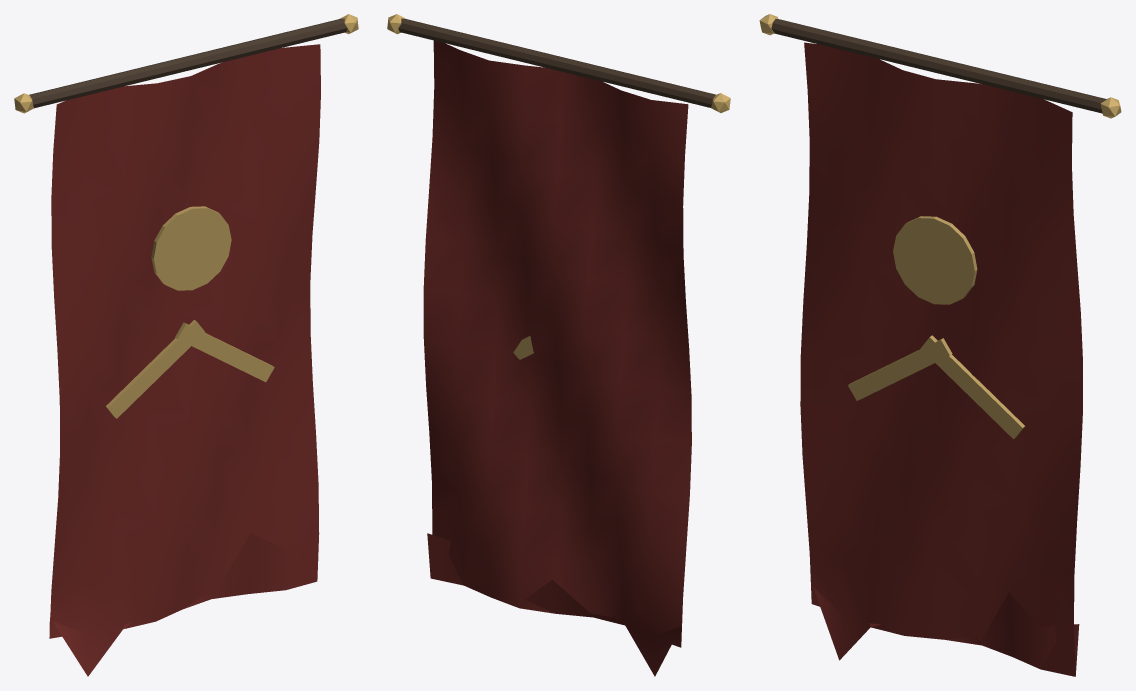
Rendered from banner_torn.glb.
3 renders of one model, left to right at view 1: azimuth 30°, elevation 25°; view 2: azimuth 150°, elevation 25°; view 3: azimuth 330°, elevation 25°, orthographic. The views are drawn at different scales.
Visible parts, largest first — view 1: banner_torn; view 2: banner_torn; view 3: banner_torn.
Boxes of the visible parts, bbox=[...] form: banner_torn: bbox=[14, 14, 358, 676]; banner_torn: bbox=[387, 14, 730, 676]; banner_torn: bbox=[759, 14, 1121, 676].
Size of the model in its own units: 1.58 by 2.65 by 0.1083.
